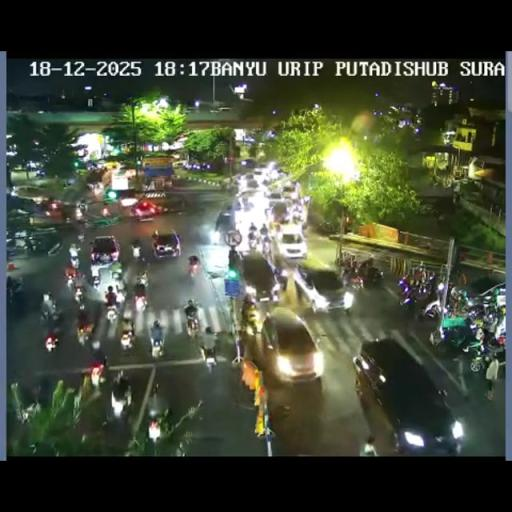Car: (354, 338, 462, 452), (259, 308, 322, 382), (238, 251, 280, 304), (230, 198, 271, 252), (276, 228, 307, 259), (90, 236, 120, 266), (151, 230, 182, 259), (267, 200, 293, 225), (214, 206, 234, 238), (130, 200, 160, 220), (38, 199, 64, 218), (251, 167, 269, 183), (264, 191, 284, 205), (280, 184, 297, 198), (243, 178, 260, 192), (240, 158, 258, 168)
Motorcycle: (41, 258, 108, 354), (465, 332, 504, 374), (397, 272, 438, 310), (429, 422, 462, 456), (146, 388, 164, 442), (35, 373, 57, 406), (200, 326, 218, 364), (106, 395, 130, 423), (119, 319, 136, 353), (16, 401, 41, 424), (448, 284, 470, 310), (77, 311, 94, 343), (242, 306, 260, 335), (342, 269, 364, 291), (272, 264, 289, 292), (231, 330, 245, 364), (6, 276, 24, 302), (150, 321, 164, 354), (90, 360, 106, 388), (104, 296, 121, 322), (132, 285, 148, 312), (492, 309, 506, 339), (47, 307, 64, 330), (465, 304, 486, 322), (185, 314, 200, 338), (367, 267, 384, 288), (44, 330, 59, 353), (273, 401, 292, 419), (429, 326, 444, 348), (72, 283, 86, 305), (134, 269, 149, 288), (318, 220, 338, 234), (341, 290, 354, 311), (130, 238, 142, 260), (115, 277, 128, 297), (187, 257, 199, 277), (24, 236, 37, 254), (65, 272, 76, 293), (342, 254, 356, 270), (247, 232, 259, 250), (110, 265, 122, 282), (76, 212, 90, 226), (245, 284, 257, 300), (291, 209, 303, 225), (91, 269, 101, 288), (261, 235, 271, 254), (69, 254, 80, 270), (90, 336, 100, 353), (69, 242, 80, 256), (150, 381, 159, 398), (76, 228, 86, 242), (260, 223, 268, 237), (248, 222, 257, 234), (102, 206, 110, 218), (86, 182, 95, 192), (78, 201, 86, 211)
